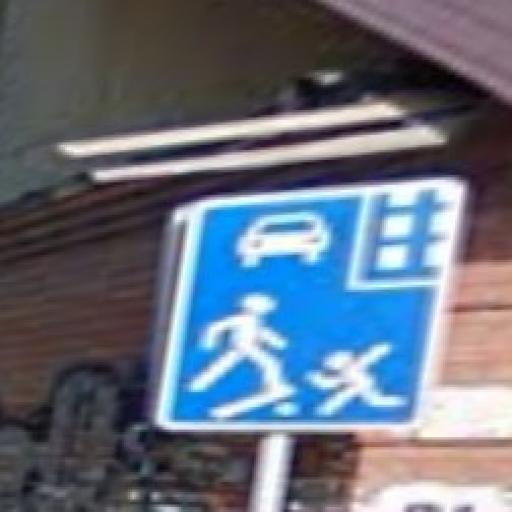traffic_sign: (156, 176, 469, 435)
